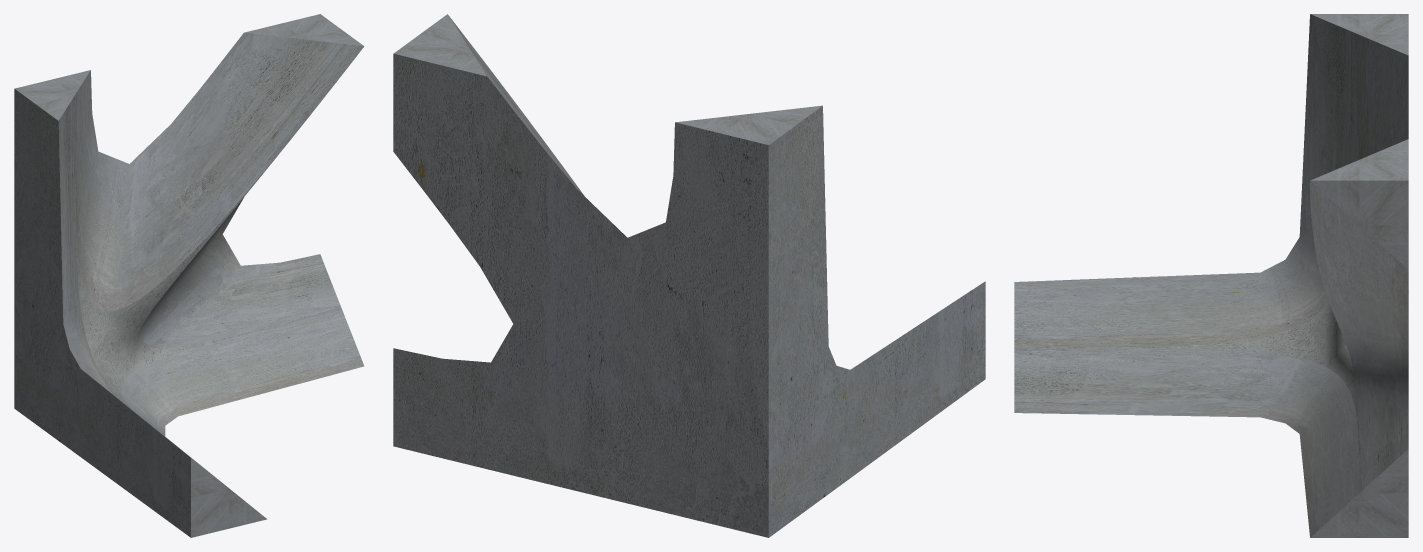
File: module_J3.fbx
The picture shows the model from 3 angles, left to right: view 1: azimuth 30°, elevation 25°; view 2: azimuth 150°, elevation 25°; view 3: azimuth 270°, elevation 25°; orthographic projection. The views are drawn at different scales.
Visible parts, largest first — view 1: modules; view 2: modules; view 3: modules.
Part boxes in pixels (<box>): modules: <box>14,14,364,537</box>; modules: <box>393,14,985,537</box>; modules: <box>1014,14,1408,537</box>.
Size of the model in its own units: 1000 by 1000 by 1000.
Materials: 1 (1 with a texture image).
